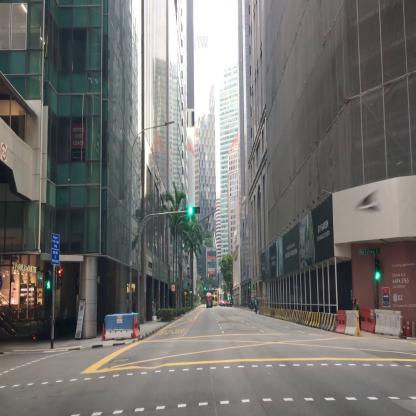green_traffic_light: (374, 258, 380, 279), (189, 206, 200, 213)
